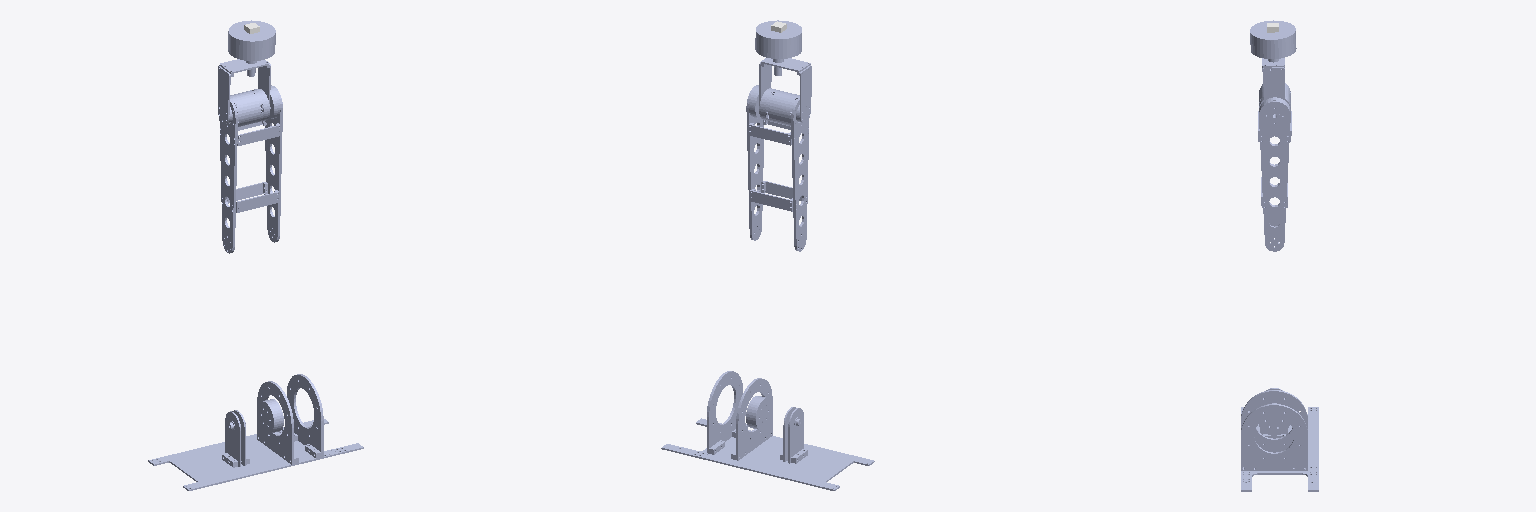
robot.urdf — armurdf_standard_motor:
<?xml version="1.0" encoding="utf-8"?>
<!-- This URDF was automatically created by SolidWorks to URDF Exporter! Originally created by Stephen Brawner (brawner@gmail.com) 
     Commit Version: 1.6.0-4-g7f85cfe  Build Version: 1.6.7995.38578
     For more information, please see http://wiki.ros.org/sw_urdf_exporter -->
<robot
  name="armurdf_standard_motor">
  <link
    name="base_link">
    <inertial>
      <origin
        xyz="0.06401797 0.00093364 0.06018482"
        rpy="0 0 0" />
      <mass
        value="1.19404" />
      <inertia
        ixx="0.00054518"
        ixy="-8.8651E-07"
        ixz="1.2762E-20"
        iyy="0.00099237"
        iyz="3.2702E-08"
        izz="0.0011813" />
    </inertial>
    <visual>
      <origin
        xyz="0 0 0"
        rpy="0 0 0" />
      <geometry>
        <mesh
          filename="../meshes/base_link.STL" />
      </geometry>
      <material
        name="">
        <color
          rgba="0.79216 0.81961 0.93333 1" />
      </material>
    </visual>
    <collision>
      <origin
        xyz="0 0 0"
        rpy="0 0 0" />
      <geometry>
        <mesh
          filename="../meshes/base_link.STL" />
      </geometry>
    </collision>
  </link>
  <link
    name="Link1">
    <inertial>
      <origin
        xyz="-0.00047343 0.28954791 0.0005662"
        rpy="0 0 0" />
      <mass
        value="0.54717" />
      <inertia
        ixx="0.0023759"
        ixy="3.3021E-06"
        ixz="-3.9537E-21"
        iyy="6.4486E-05"
        iyz="-5.53E-19"
        izz="0.0024336" />
    </inertial>
    <visual>
      <origin
        xyz="0 0 0"
        rpy="0 0 0" />
      <geometry>
        <mesh
          filename="../meshes/Link1.STL" />
      </geometry>
      <material
        name="">
        <color
          rgba="1 1 1 1" />
      </material>
    </visual>
    <collision>
      <origin
        xyz="0 0 0"
        rpy="0 0 0" />
      <geometry>
        <mesh
          filename="../meshes/Link1.STL" />
      </geometry>
    </collision>
  </link>
  <joint
    name="j1"
    type="revolute">
    <origin
      xyz="0 0 0.07"
      rpy="1.5708 0 -1.5708" />
    <parent
      link="base_link" />
    <child
      link="Link1" />
    <axis
      xyz="0 0 -1" />
    <limit
      lower="-1.57"
      upper="1.57"
      effort="30"
      velocity="3.14" />
  </joint>
  <link
    name="Link2">
    <inertial>
      <origin
        xyz="-0.0003464 0.2219719 0.00658453"
        rpy="0 0 0" />
      <mass
        value="0.5273" />
      <inertia
        ixx="0.00075992"
        ixy="1.0161E-06"
        ixz="4.134E-20"
        iyy="4.9865E-05"
        iyz="5.7918E-19"
        izz="0.00078302" />
    </inertial>
    <visual>
      <origin
        xyz="0 0 0"
        rpy="0 0 0" />
      <geometry>
        <mesh
          filename="../meshes/Link2.STL" />
      </geometry>
      <material
        name="">
        <color
          rgba="0.79216 0.81961 0.93333 0.25" />
      </material>
    </visual>
    <collision>
      <origin
        xyz="0 0 0"
        rpy="0 0 0" />
      <geometry>
        <mesh
          filename="../meshes/Link2.STL" />
      </geometry>
    </collision>
  </link>
  <joint
    name="j2"
    type="revolute">
    <origin
      xyz="-0.0005 0.35 0"
      rpy="0 0 0" />
    <parent
      link="Link1" />
    <child
      link="Link2" />
    <axis
      xyz="0 0 -1" />
    <limit
      lower="-2.32"
      upper="2.32"
      effort="10"
      velocity="3.14" />
  </joint>
  <link
    name="Link3">
    <inertial>
      <origin
        xyz="0.002693 0.11635 0.0019852"
        rpy="0 0 0" />
      <mass
        value="0.24563" />
      <inertia
        ixx="0.00013404"
        ixy="1.2628E-06"
        ixz="6.3612E-09"
        iyy="0.0001778"
        iyz="-1.8653E-10"
        izz="0.00013348" />
    </inertial>
    <visual>
      <origin
        xyz="0 0 0"
        rpy="0 0 0" />
      <geometry>
        <mesh
          filename="../meshes/Link3.STL" />
      </geometry>
      <material
        name="">
        <color
          rgba="0.79216 0.81961 0.93333 1" />
      </material>
    </visual>
    <collision>
      <origin
        xyz="0 0 0"
        rpy="0 0 0" />
      <geometry>
        <mesh
          filename="../meshes/Link3.STL" />
      </geometry>
    </collision>
  </link>
  <joint
    name="j3"
    type="revolute">
    <origin
      xyz="-0.000357142857063231 0.24999974489785 -0.00262500000000032"
      rpy="0 0 0" />
    <parent
      link="Link2" />
    <child
      link="Link3" />
    <axis
      xyz="0 0 -1" />
    <limit
      lower="-1.95"
      upper="1.95"
      effort="10"
      velocity="3.14" />
  </joint>
  <link
    name="tool_Link">
    <inertial>
      <origin
        xyz="0 0 0"
        rpy="0 0 0" />
      <mass
        value="0.0001" />
      <inertia
        ixx="1E-06"
        ixy="1E-06"
        ixz="0"
        iyy="1E-06"
        iyz="0"
        izz="0" />
    </inertial>
    <visual>
      <origin
        xyz="0 0 0"
        rpy="0 0 0" />
      <geometry>
        <box size="0.02 0.02 0.02" />
      </geometry>
      <material
        name="">
        <color
          rgba="1 1 1 1" />
      </material>
    </visual>
    <collision>
      <origin
        xyz="0 0 0"
        rpy="0 0 0" />
      <geometry>
        <box size="0.02 0.02 0.02" />
      </geometry>
    </collision>
  </link>
  <joint
    name="j_tool"
    type="fixed">
    <origin
      xyz="0.0034791 0.14696 -2.5E-05"
      rpy="0 0 0" />
    <parent
      link="Link3" />
    <child
      link="tool_Link" />
    <axis
      xyz="0 0 0" />
  </joint>
</robot>

--- Facts derived from the render (not from the file) ---
Views: 3 orthographic renders of the robot side by side, from view 1: azimuth 30°, elevation 25°; view 2: azimuth 150°, elevation 25°; view 3: azimuth 270°, elevation 25°.
Model armurdf_standard_motor with 5 links and 4 joints (3 revolute, 1 fixed), rooted at base_link, posed all joints at 0.
Links seen in each view (by area): view 1: base_link, Link2, Link3; view 2: base_link, Link2, Link3; view 3: base_link, Link2, Link3.
Link boxes in pixels (<box>): base_link: <box>148,374,363,490</box>; Link2: <box>219,85,282,253</box>; Link3: <box>218,20,275,123</box>; base_link: <box>661,371,874,490</box>; Link2: <box>746,85,808,251</box>; Link3: <box>755,20,811,122</box>; base_link: <box>1241,388,1318,491</box>; Link2: <box>1258,83,1291,251</box>; Link3: <box>1250,20,1296,100</box>.
Bounding box of the posed robot: 0.35 × 0.14 × 0.83 m (x, y, z).
3 mesh visuals loaded from 4 distinct referenced files (3 binary STL); not drawn: 1 (reference not matched to a file when rendering).
